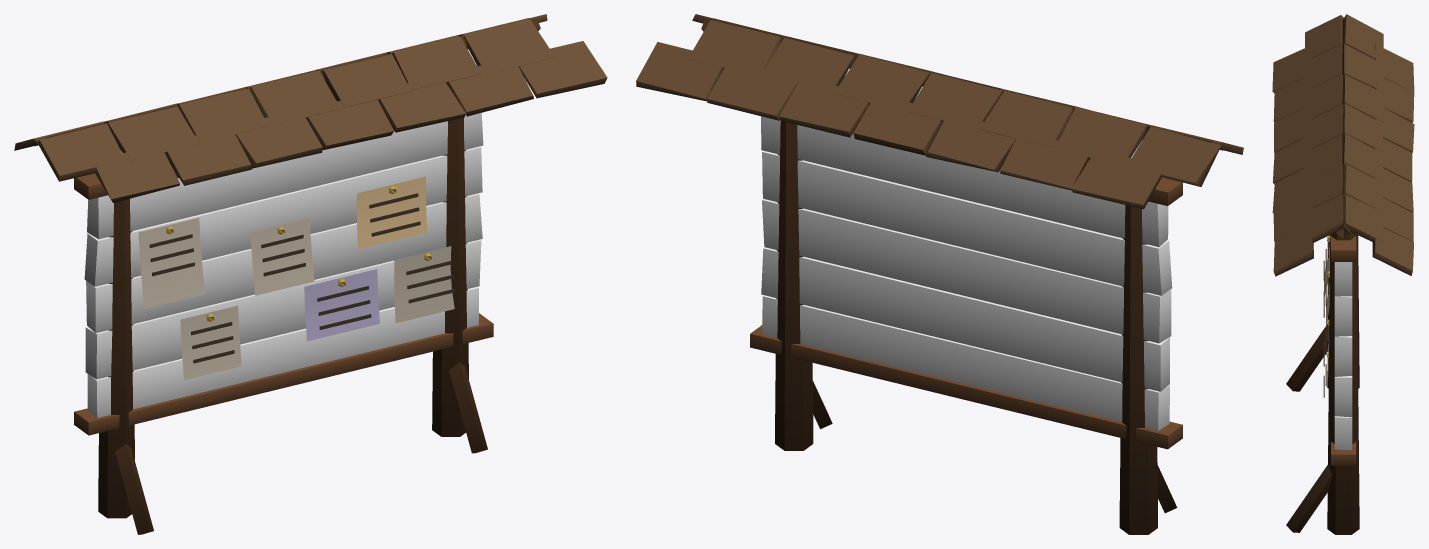
Rendered from notice_board.glb.
The picture shows the model from 3 angles, left to right: view 1: azimuth 30°, elevation 25°; view 2: azimuth 150°, elevation 25°; view 3: azimuth 270°, elevation 25°; orthographic projection. The views are drawn at different scales.
Visible parts, largest first — view 1: notice_board_trim, notice_board; view 2: notice_board, notice_board_trim; view 3: notice_board_trim, notice_board.
Part boxes in pixels (box(x1,y1,x2,y2)): notice_board_trim: box(14, 14, 607, 534); notice_board: box(84, 113, 483, 417); notice_board: box(761, 116, 1172, 430); notice_board_trim: box(636, 14, 1243, 534); notice_board_trim: box(1272, 14, 1414, 534); notice_board: box(1334, 262, 1352, 450).
Size of the model in its own units: 1.05 by 0.7509 by 0.2807.
